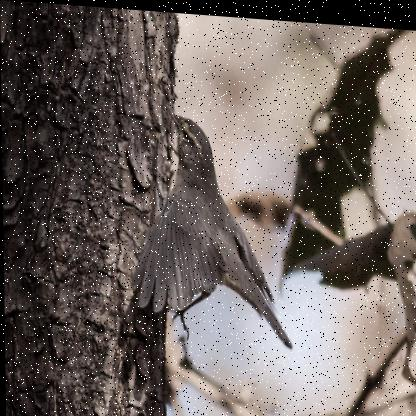Burung: (126, 109, 296, 346)
